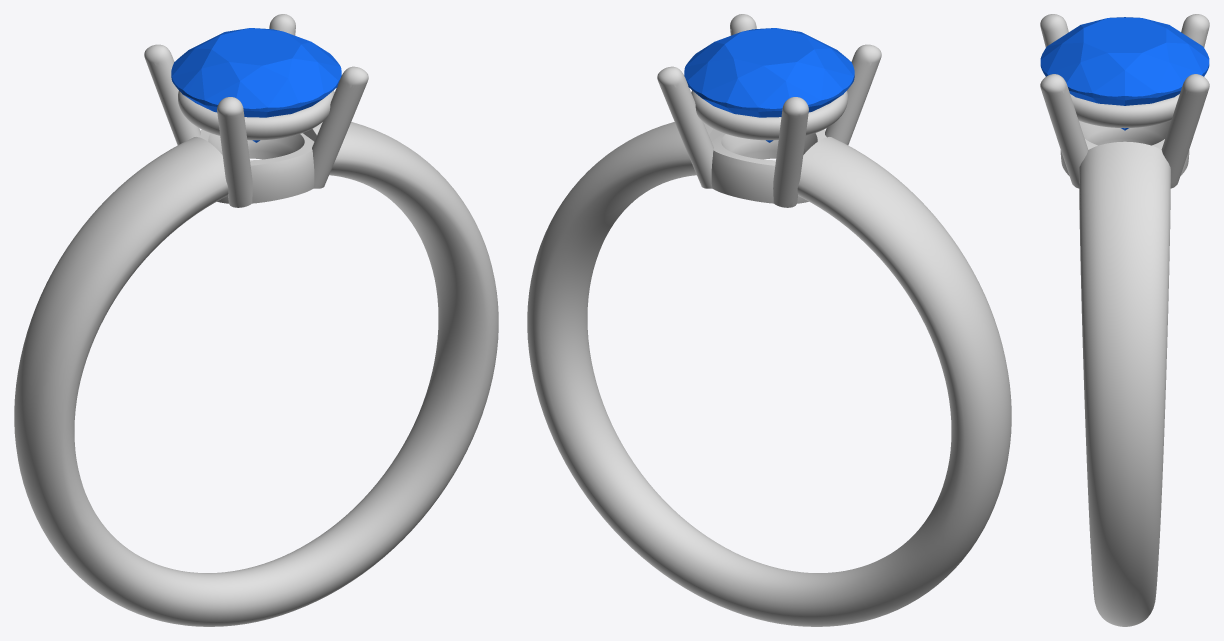
The model's file is bluesapphire-round-platinum-4prong-taperedband-nosidestones.glb.
3 views of the same model, side by side, from view 1: azimuth 30°, elevation 25°; view 2: azimuth 150°, elevation 25°; view 3: azimuth 270°, elevation 25° (orthographic).
Visible parts, largest first — view 1: metal, stone; view 2: metal, stone; view 3: metal, stone.
Part boxes in pixels (<box>): metal: <box>14,14,498,626</box>; stone: <box>171,28,341,142</box>; metal: <box>527,14,1011,626</box>; stone: <box>684,28,854,142</box>; metal: <box>1040,14,1209,626</box>; stone: <box>1040,17,1209,130</box>.
Size of the model in its own units: 20.5 by 23.81 by 6.45.
